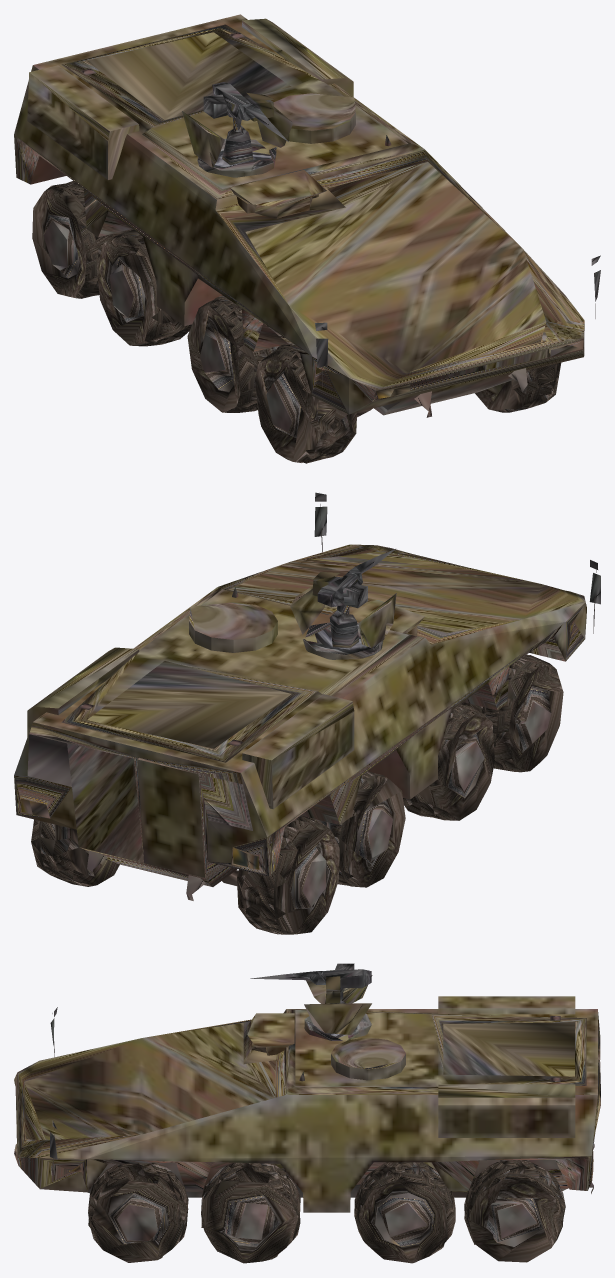
The model's file is ifv.lod1.glb.
3 renders of one model, top to bottom at view 1: azimuth 30°, elevation 25°; view 2: azimuth 150°, elevation 25°; view 3: azimuth 270°, elevation 25°, orthographic. The views are drawn at different scales.
Visible parts, largest first — view 1: ifv_vfertig_lambert1_0; view 2: ifv_vfertig_lambert1_0; view 3: ifv_vfertig_lambert1_0.
Boxes of the visible parts, x1,y1,x2,y2 form: ifv_vfertig_lambert1_0: [14, 14, 600, 463]; ifv_vfertig_lambert1_0: [14, 492, 600, 934]; ifv_vfertig_lambert1_0: [14, 963, 600, 1263].
Size of the model in its own units: 3.32 by 2.91 by 7.
1 material, 1 textured.
